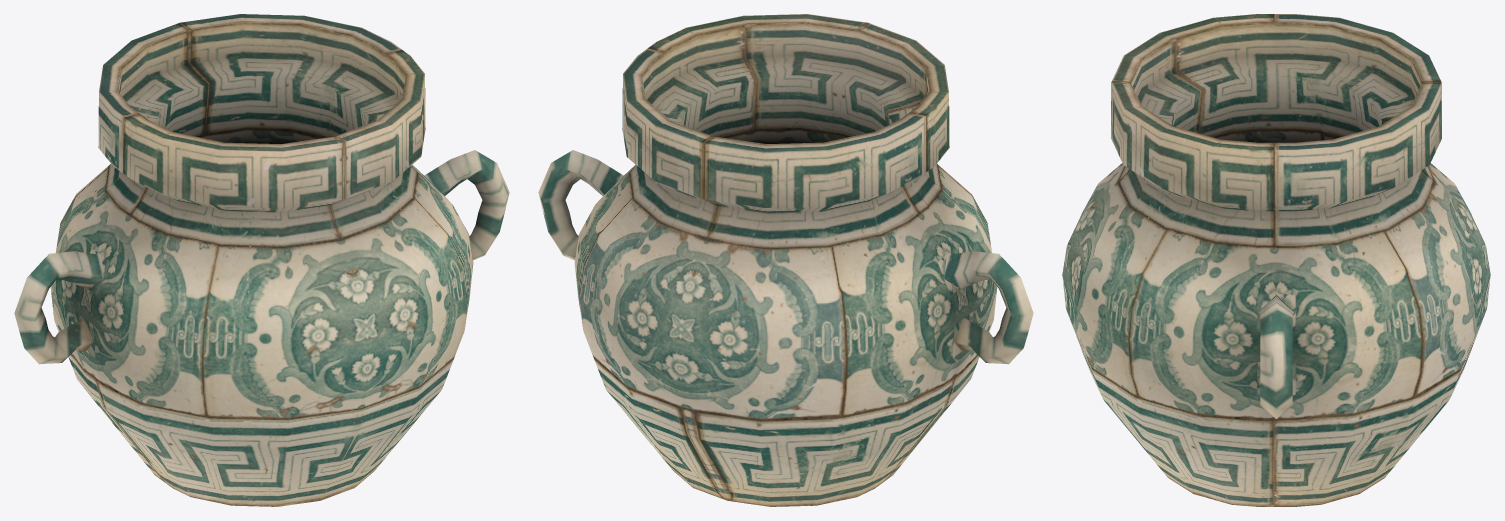
Rendered from pot.glb.
The picture shows the model from 3 angles, left to right: view 1: azimuth 30°, elevation 25°; view 2: azimuth 150°, elevation 25°; view 3: azimuth 270°, elevation 25°; orthographic projection.
Parts seen in each view (by area): view 1: Cube.003; view 2: Cube.003; view 3: Cube.003.
Part boxes in pixels (left/top/right/bottom): Cube.003: left=14, top=14, right=509, bottom=506; Cube.003: left=538, top=14, right=1033, bottom=506; Cube.003: left=1062, top=14, right=1490, bottom=506.
Size of the model in its own units: 1.58 by 1.14 by 1.17.
Materials: 1 (1 with a texture image).
